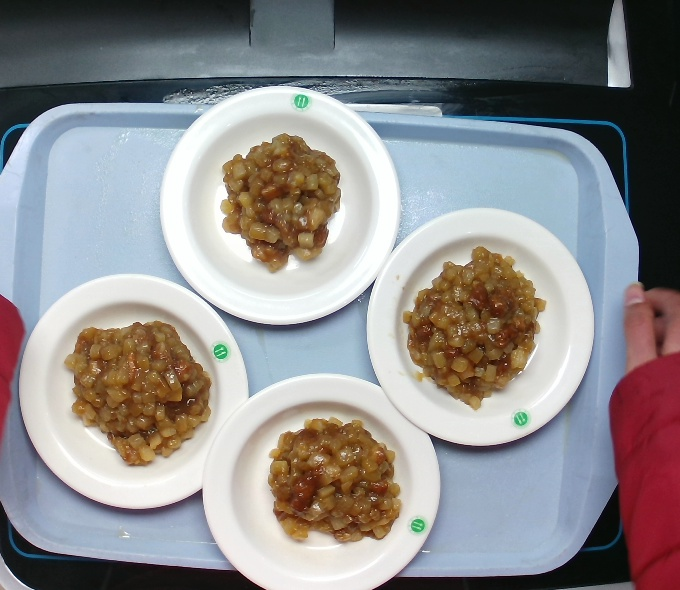wcq-RouYuan: (201, 116, 364, 277), (62, 309, 217, 466), (389, 252, 559, 394), (253, 413, 404, 547)
